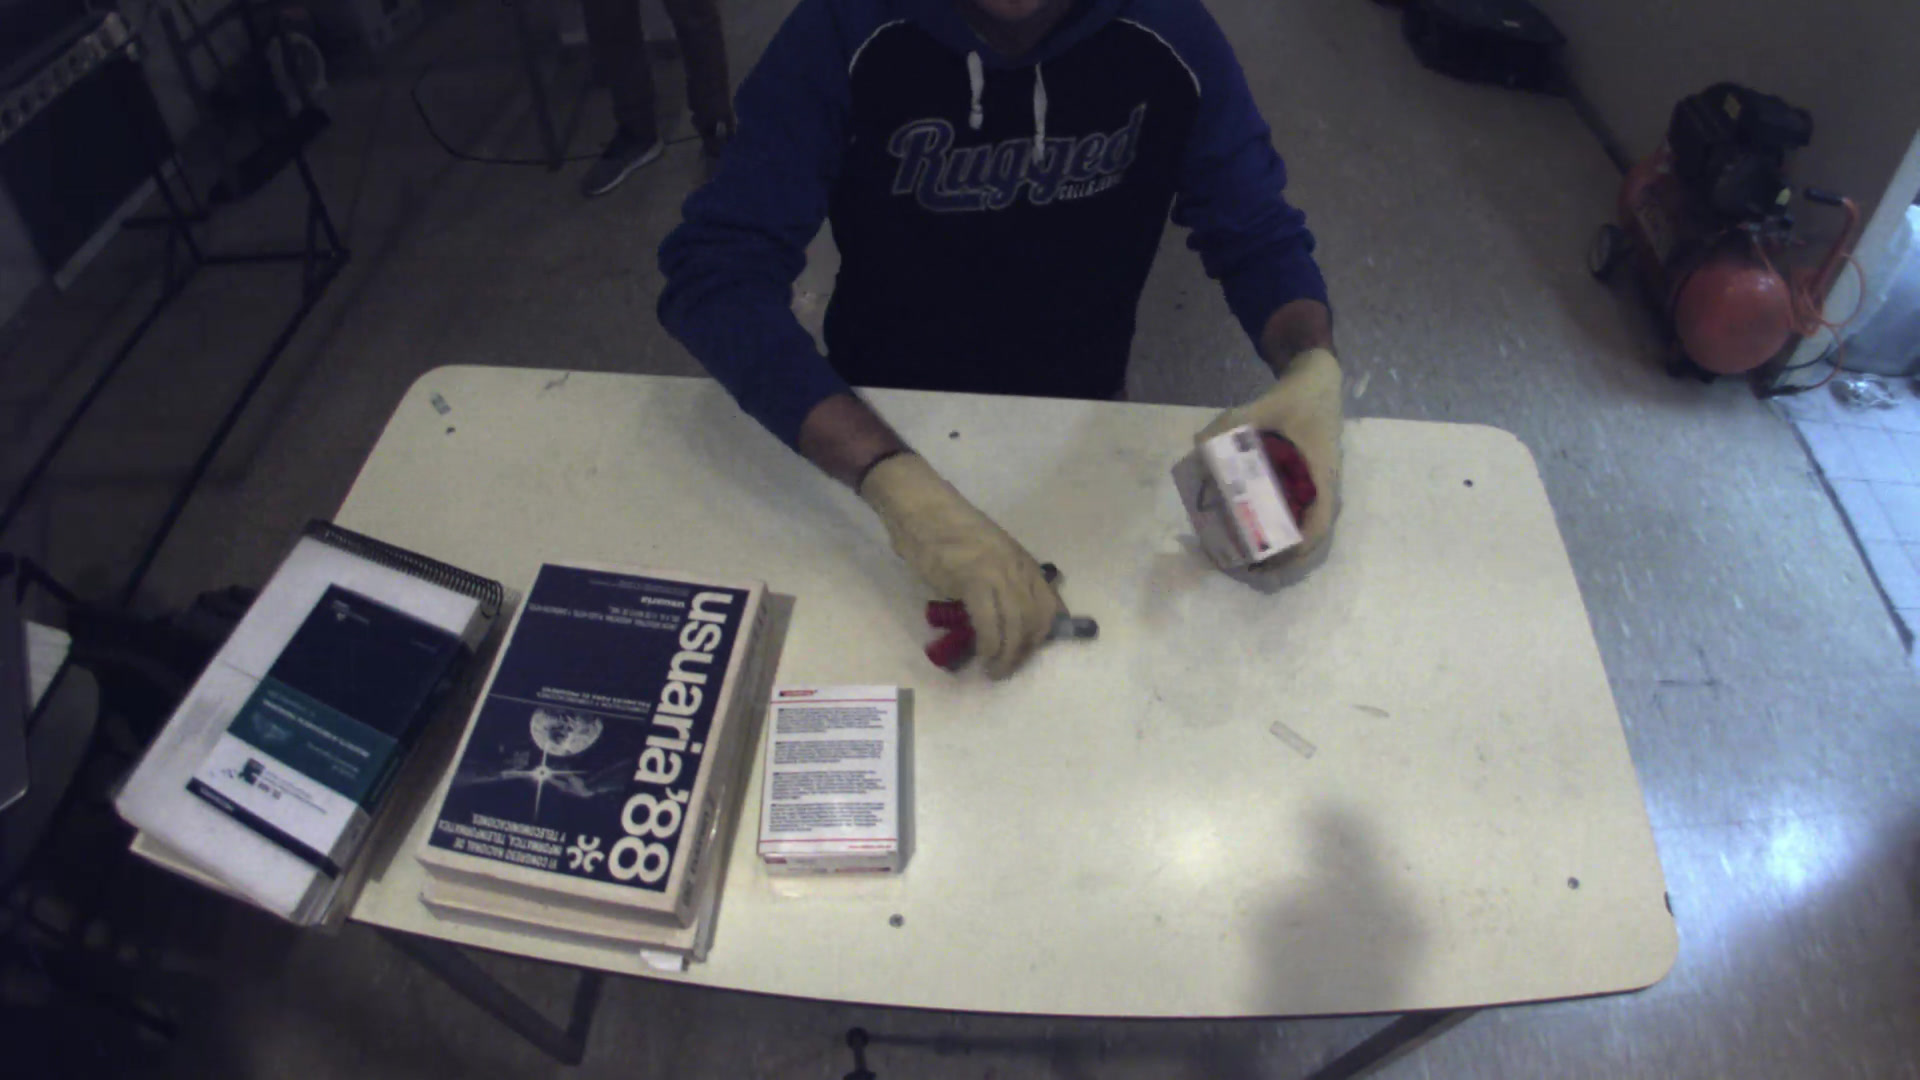hand: (844, 454, 1076, 683), (1163, 345, 1367, 596)
